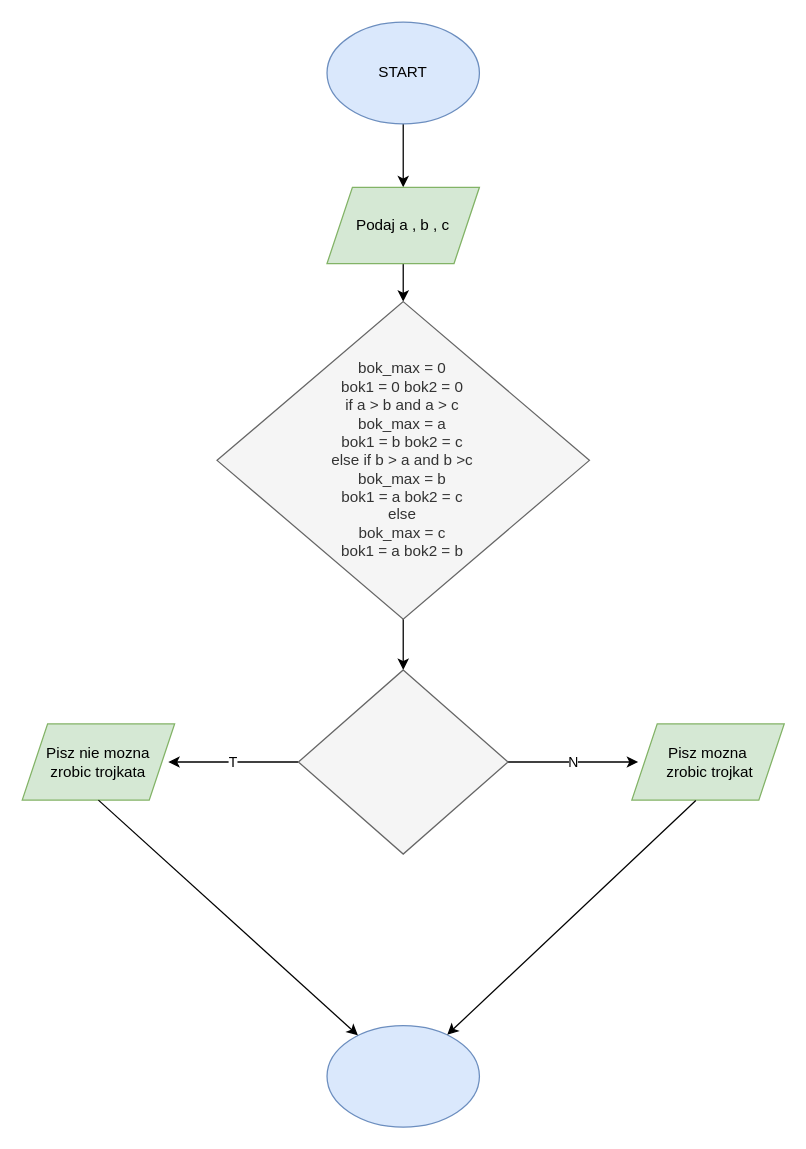
This 806x1149 diagram has some shape labels left out. The shapes that lost their labels are listed below. From the top down, each one's box as (x1, y1, x2, y2) in pixels, then its label:
(297, 669, 508, 854): if bok_max > bok1 + bok2
(326, 1024, 479, 1127): STOP
